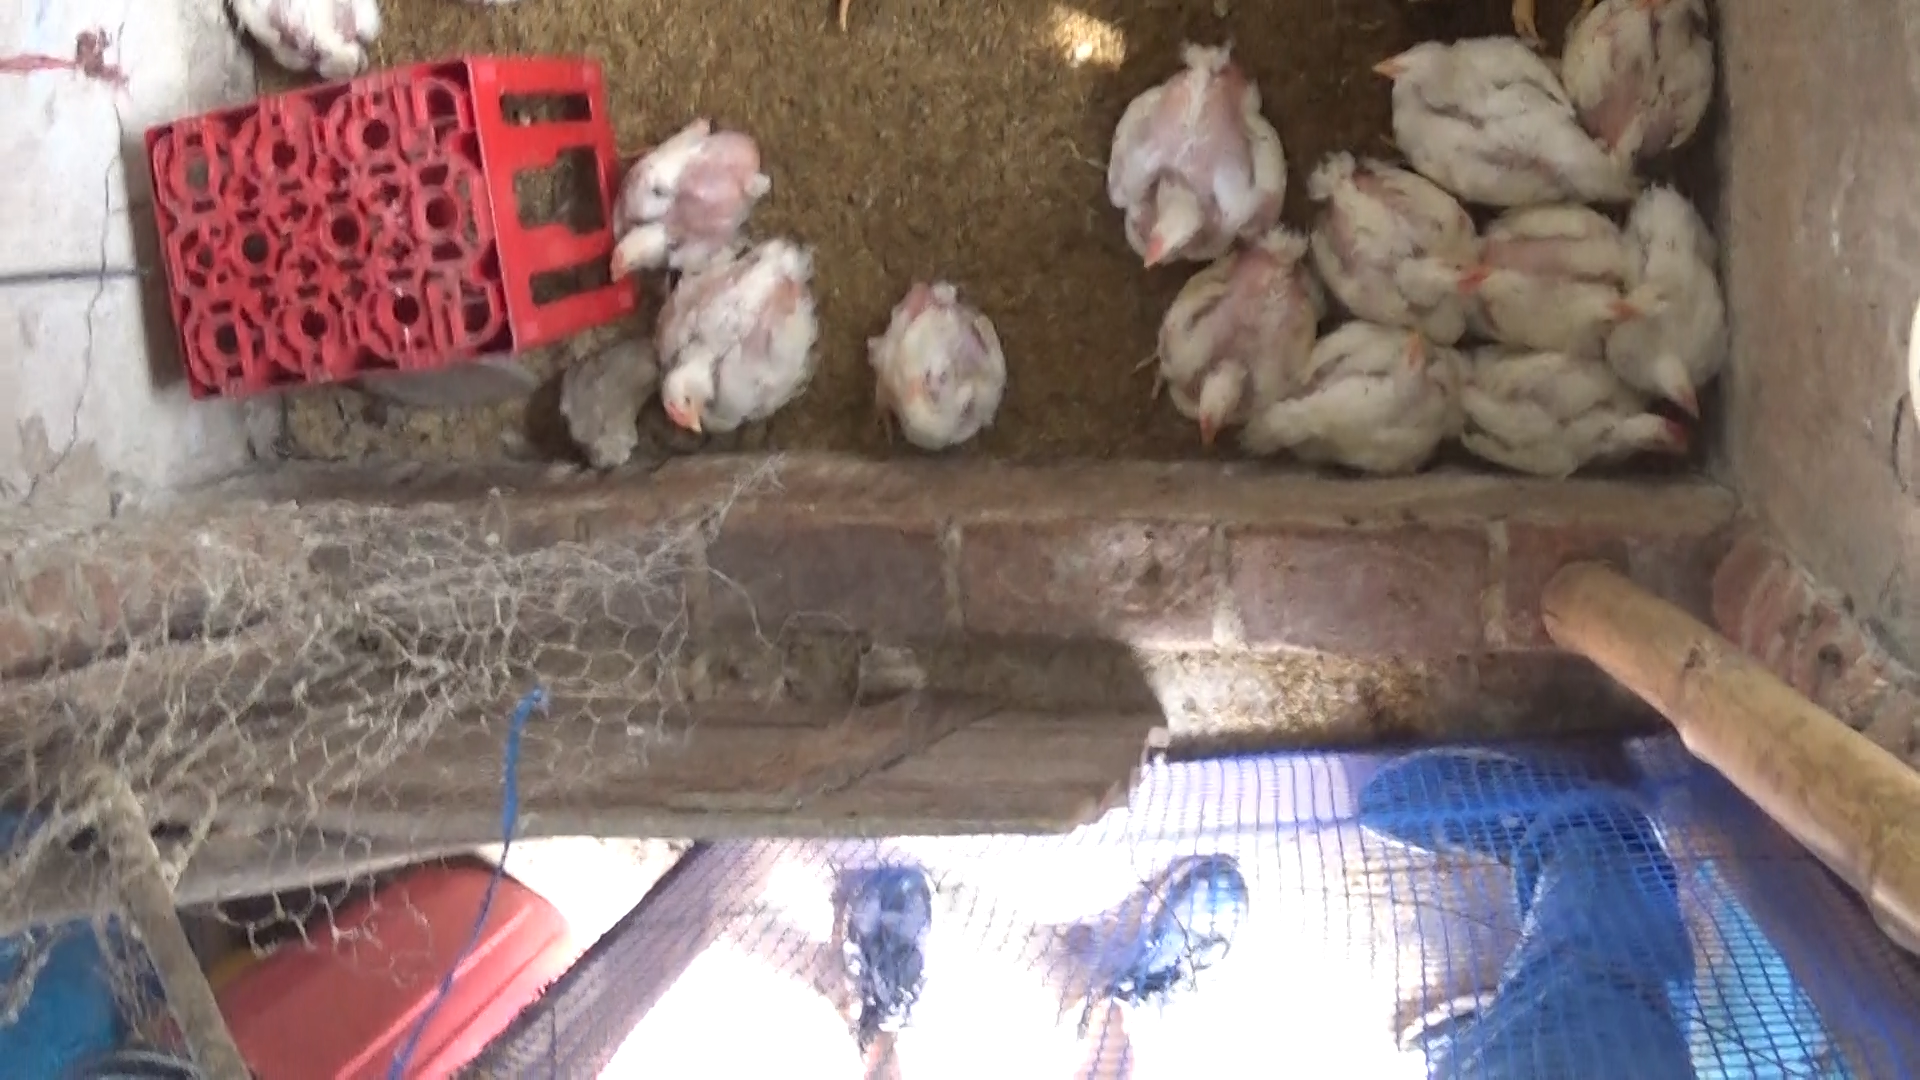Pollos: (1105, 218, 1327, 458), (1087, 36, 1286, 276), (1360, 36, 1626, 204), (628, 218, 829, 434), (1291, 144, 1487, 332), (580, 105, 789, 282), (1262, 305, 1461, 487), (1604, 187, 1760, 411), (1455, 187, 1640, 367), (1465, 348, 1702, 483), (852, 258, 1010, 447), (1557, 0, 1737, 160), (222, 0, 381, 94)
